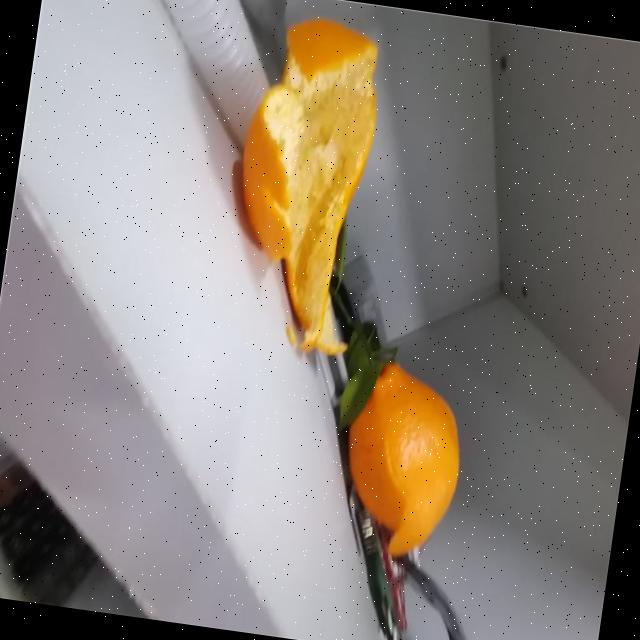orange-peel: (215, 9, 392, 359), (331, 355, 474, 565)
